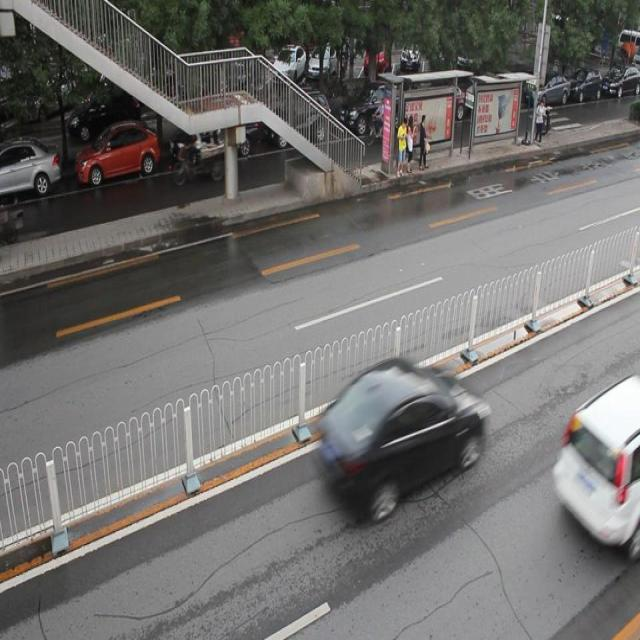car: (312, 358, 488, 515), (550, 377, 640, 548), (73, 118, 160, 184), (169, 100, 256, 162), (264, 90, 330, 148), (340, 79, 408, 133), (1, 136, 59, 198)
